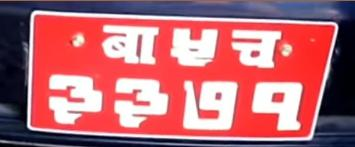1: (250, 78, 311, 134)
3: (44, 72, 105, 124), (113, 76, 172, 129)
5: (171, 25, 223, 67)
7: (181, 77, 243, 132)
ba: (100, 24, 162, 66)
cha: (227, 27, 287, 69)
